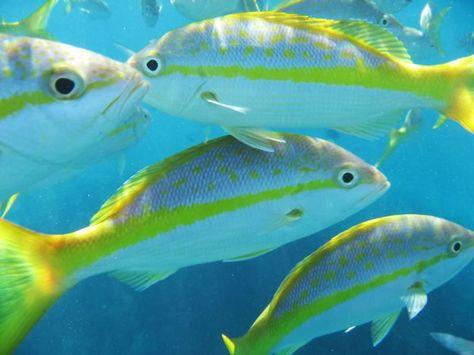fish: (0, 127, 391, 354), (126, 12, 474, 153), (220, 212, 473, 354), (0, 37, 153, 196), (35, 102, 153, 179)
